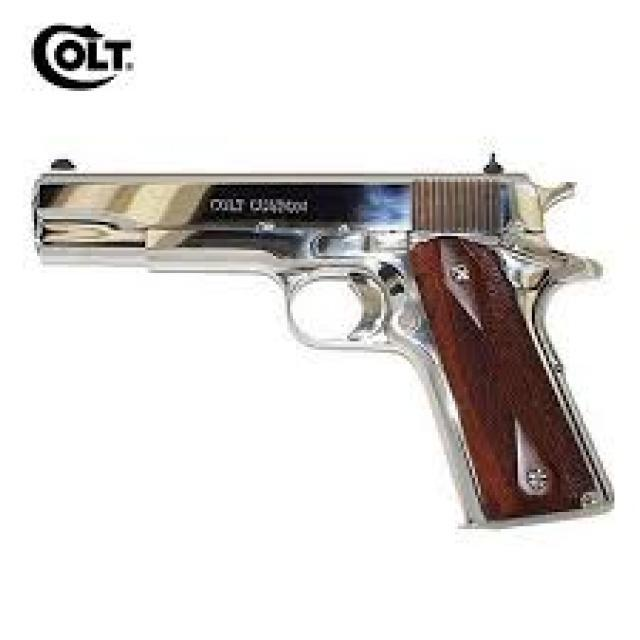semi automatic: (13, 135, 632, 556)
